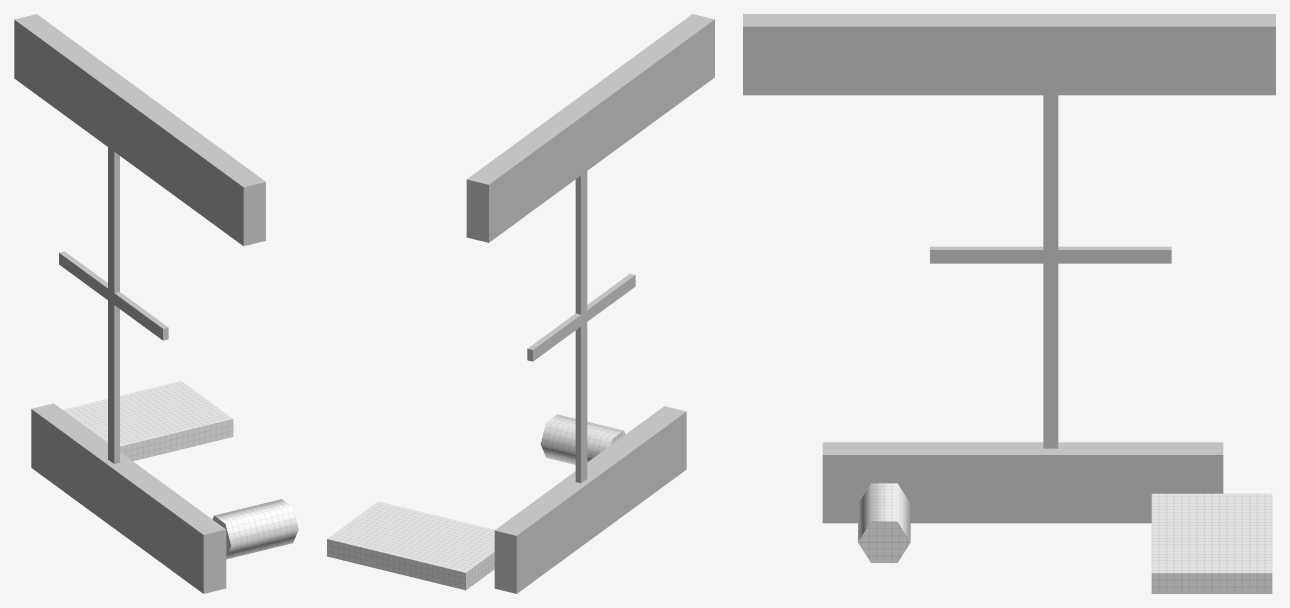
File: Templates.fbx
The picture shows the model from 3 angles, left to right: view 1: azimuth 30°, elevation 25°; view 2: azimuth 150°, elevation 25°; view 3: azimuth 270°, elevation 25°; orthographic projection. The views are drawn at different scales.
Visible parts, largest first — view 1: wall_1, wall, Cube, Window_thing, Decoration; view 2: wall_1, wall, Cube, Window_thing, Decoration; view 3: wall_1, wall, Cube, Window_thing, Decoration.
Part boxes in pixels (<box>): wall_1: <box>14,14,265,246</box>; wall: <box>31,403,226,593</box>; Cube: <box>63,381,233,461</box>; Window_thing: <box>59,147,168,463</box>; Decoration: <box>212,499,298,559</box>; wall_1: <box>466,14,714,242</box>; wall: <box>494,406,686,593</box>; Cube: <box>327,501,494,590</box>; Window_thing: <box>527,171,635,483</box>; Decoration: <box>540,414,625,464</box>; wall_1: <box>743,14,1275,95</box>; wall: <box>822,442,1223,523</box>; Cube: <box>1151,493,1272,593</box>; Window_thing: <box>930,95,1171,448</box>; Decoration: <box>858,483,910,562</box>.
Bounding box in the file's own units: 3038 × 7300 × 7050.
Materials: 2 (1 with a texture image).
